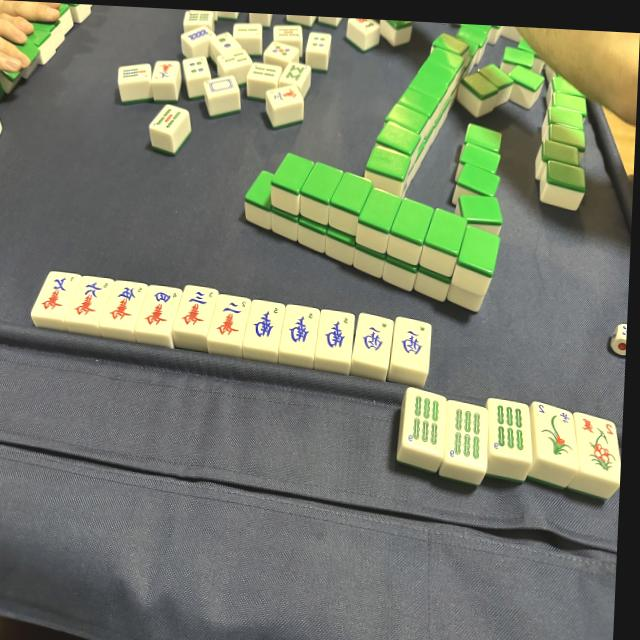2C: (213, 295, 249, 339)
2F: (529, 402, 578, 462)
2S: (573, 415, 621, 478)
3C: (178, 286, 216, 330)
4C: (141, 285, 179, 329)
5C: (106, 281, 145, 325)
6B: (400, 389, 448, 453), (443, 402, 489, 467), (487, 400, 532, 458)
6C: (73, 277, 109, 320)
7C: (38, 271, 76, 315)
SW: (320, 313, 353, 355), (285, 306, 317, 348), (250, 301, 281, 341)
WW: (393, 318, 431, 367), (356, 315, 391, 358)
